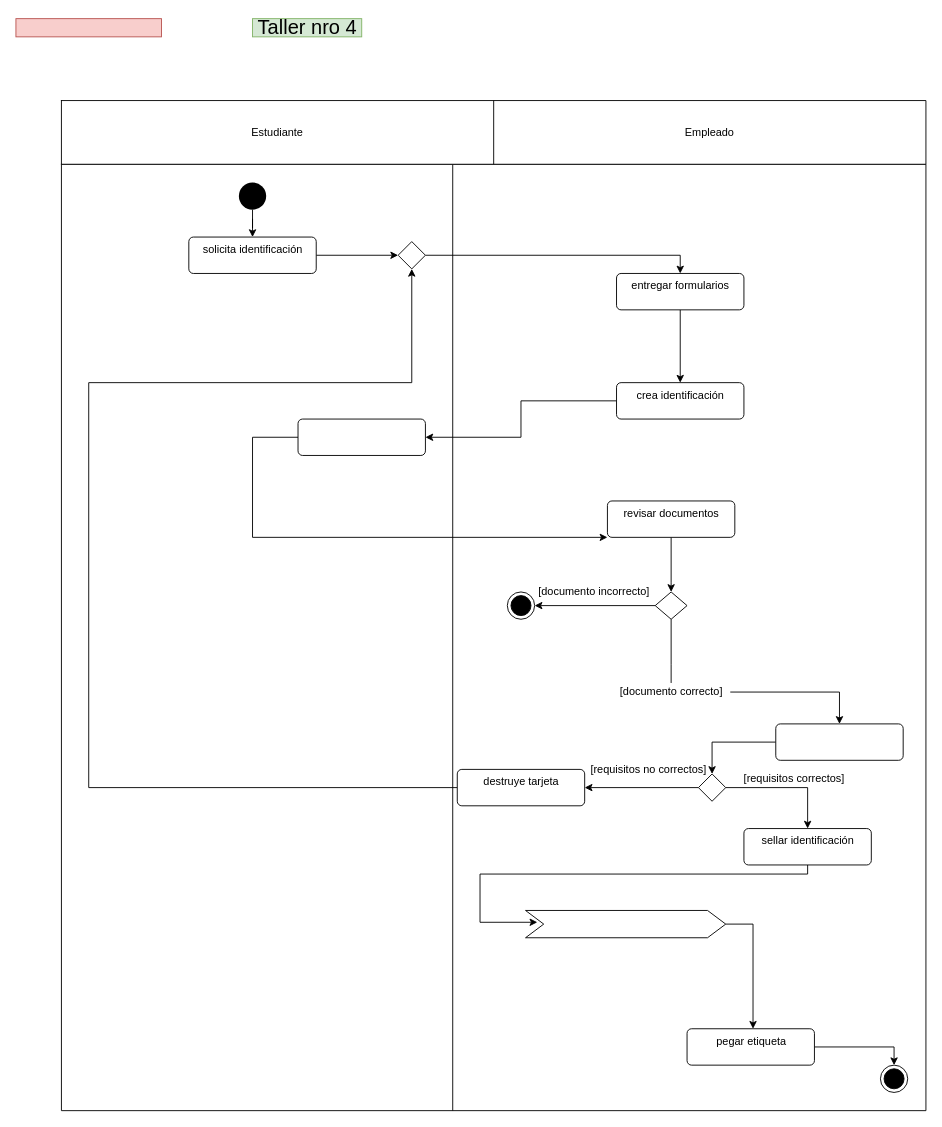
This 942x1127 diagram has some shape labels left out. The centre of each missing label's shape, as x and y in pixels:
Dennys Pucha: the point at 88,27
llenar formulario: the point at 361,436
recibir etiqueta semestre: the point at 625,924
revisar identificación: the point at 839,741
